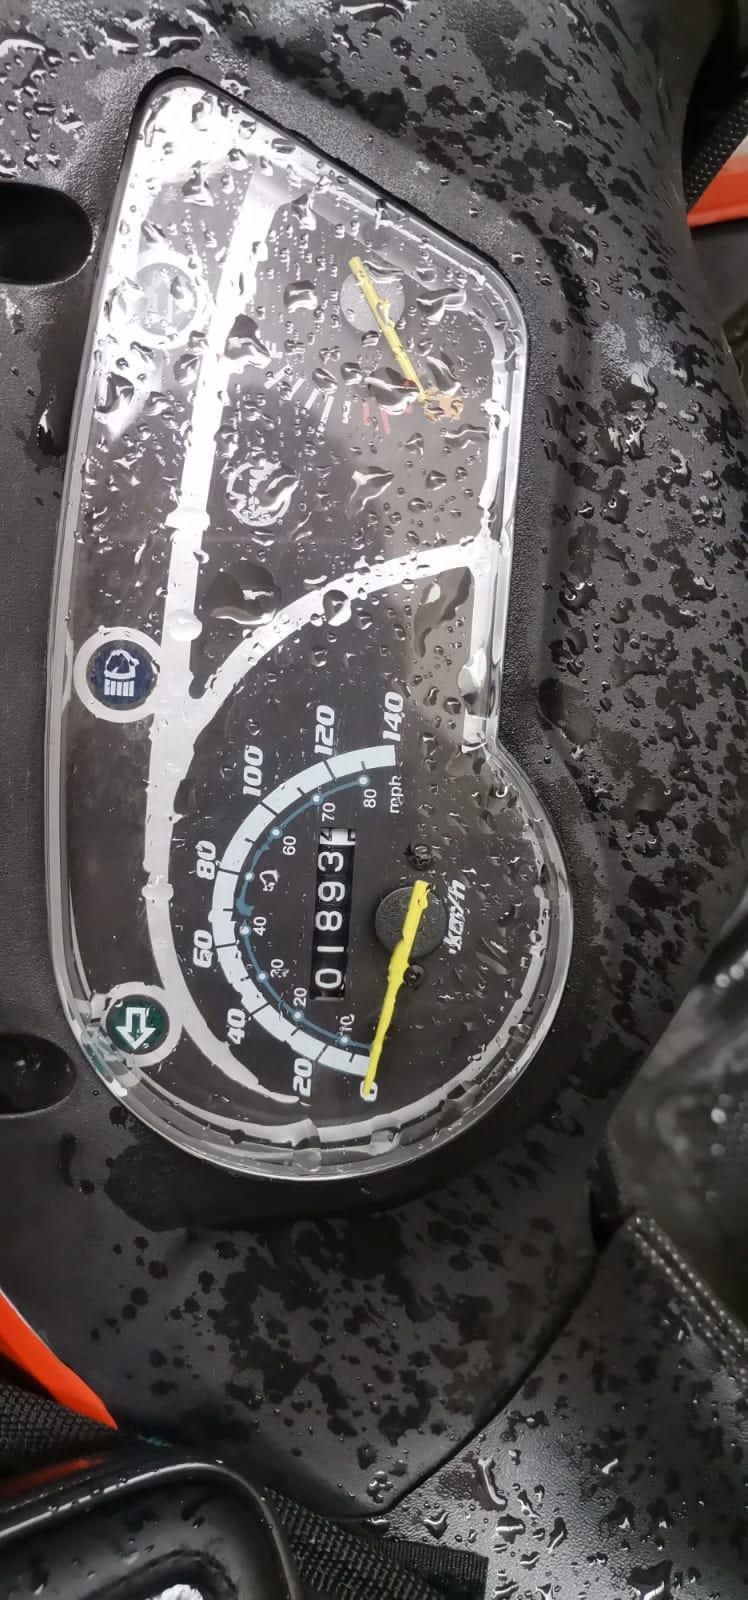0: (313, 967, 343, 989)
1: (316, 945, 345, 953)
3: (317, 850, 344, 873)
4: (315, 824, 336, 841)
8: (313, 909, 344, 931)
9: (317, 880, 346, 903)
odometer: (307, 824, 357, 1002)
